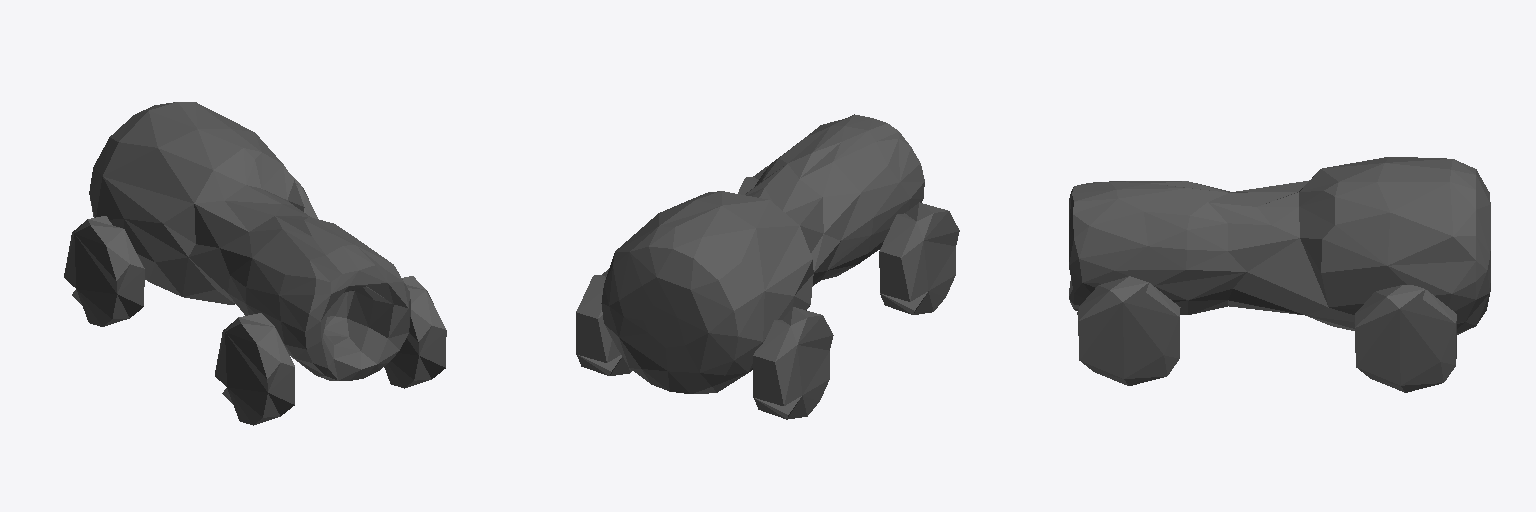
File: cannon.obj
3 renders of one model, left to right at view 1: azimuth 30°, elevation 25°; view 2: azimuth 150°, elevation 25°; view 3: azimuth 270°, elevation 25°, orthographic.
Parts seen in each view (by area): view 1: pCylinder3, pasted__pCylinder2, pCylinder2, pasted__pasted__pCylinder2; view 2: pCylinder3, pasted__pCylinder2, pCylinder2; view 3: pCylinder3, pasted__pasted__pCylinder2, pasted__pCylinder2.
Boxes of the visible parts, x1,y1,x2,y2 form: pCylinder3: [89, 102, 410, 380]; pasted__pCylinder2: [215, 175, 317, 425]; pCylinder2: [64, 216, 144, 326]; pasted__pasted__pCylinder2: [384, 276, 446, 388]; pCylinder3: [601, 114, 924, 393]; pasted__pCylinder2: [576, 202, 959, 375]; pCylinder2: [753, 307, 833, 419]; pCylinder3: [1069, 157, 1490, 334]; pasted__pasted__pCylinder2: [1077, 276, 1180, 385]; pasted__pCylinder2: [1354, 285, 1456, 392].
Bounding box in the file's own units: 28.45 × 22.89 × 48.66.